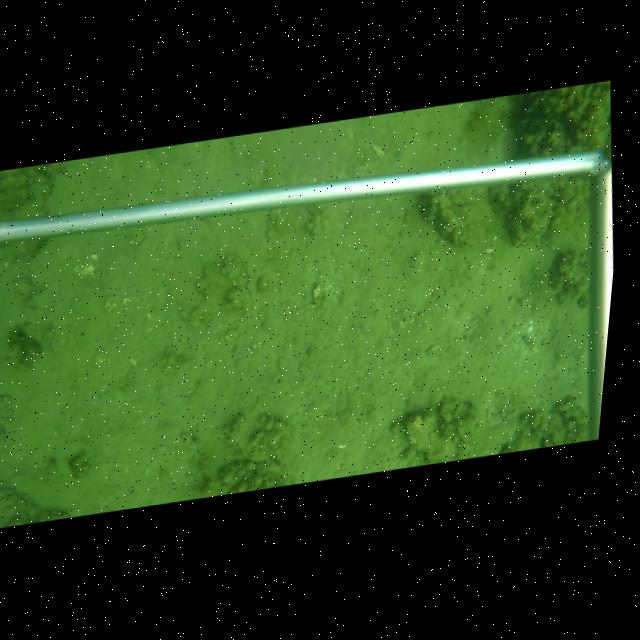Oyster-Closed: (421, 191, 477, 246), (452, 413, 466, 438)
Oyster-Indeterminate: (232, 406, 296, 464), (404, 409, 442, 455)
